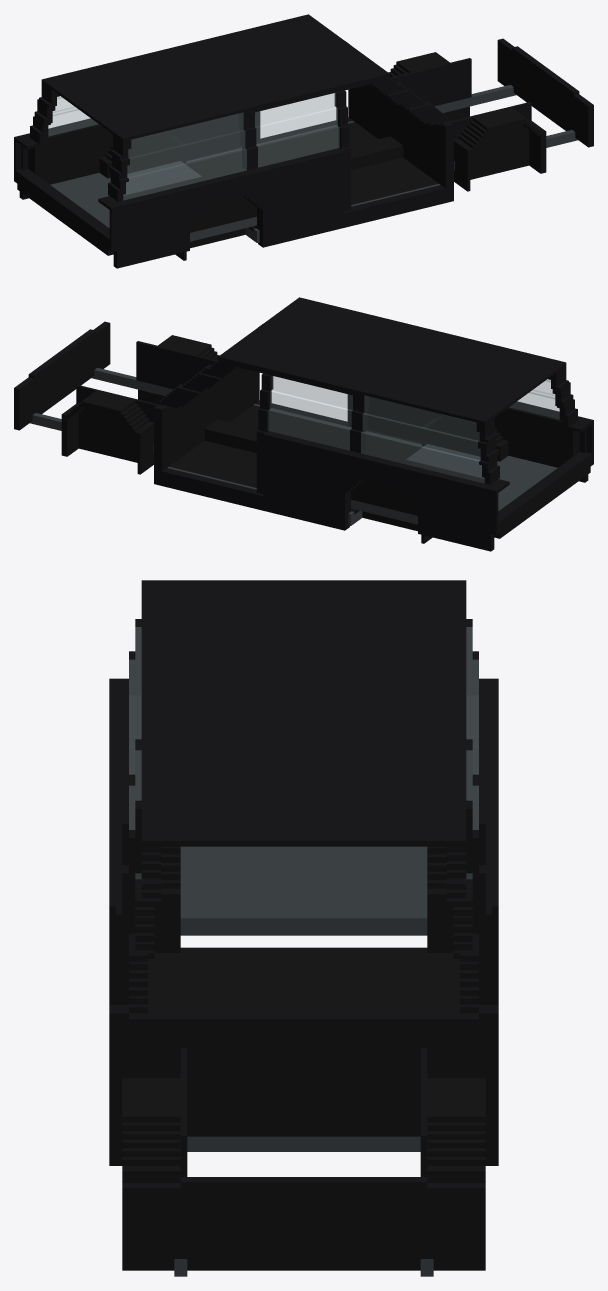
File: hearse_shell.glb
The picture shows the model from 3 angles, top to bottom: view 1: azimuth 30°, elevation 25°; view 2: azimuth 150°, elevation 25°; view 3: azimuth 270°, elevation 25°; orthographic projection. The views are drawn at different scales.
Visible parts, largest first — view 1: body:compound; view 2: body:compound; view 3: body:compound.
Boxes of the visible parts, <box> form: body:compound: <box>14,14,593,268</box>; body:compound: <box>14,297,593,551</box>; body:compound: <box>109,580,498,1276</box>.
Bounding box in the file's own units: 5.41 × 1.44 × 1.88.
